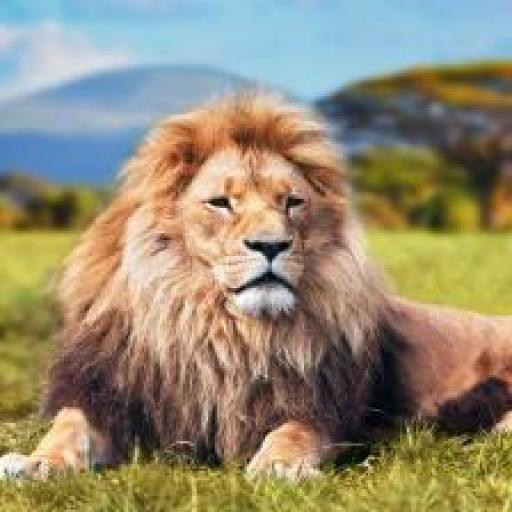lion: (94, 103, 458, 478)
